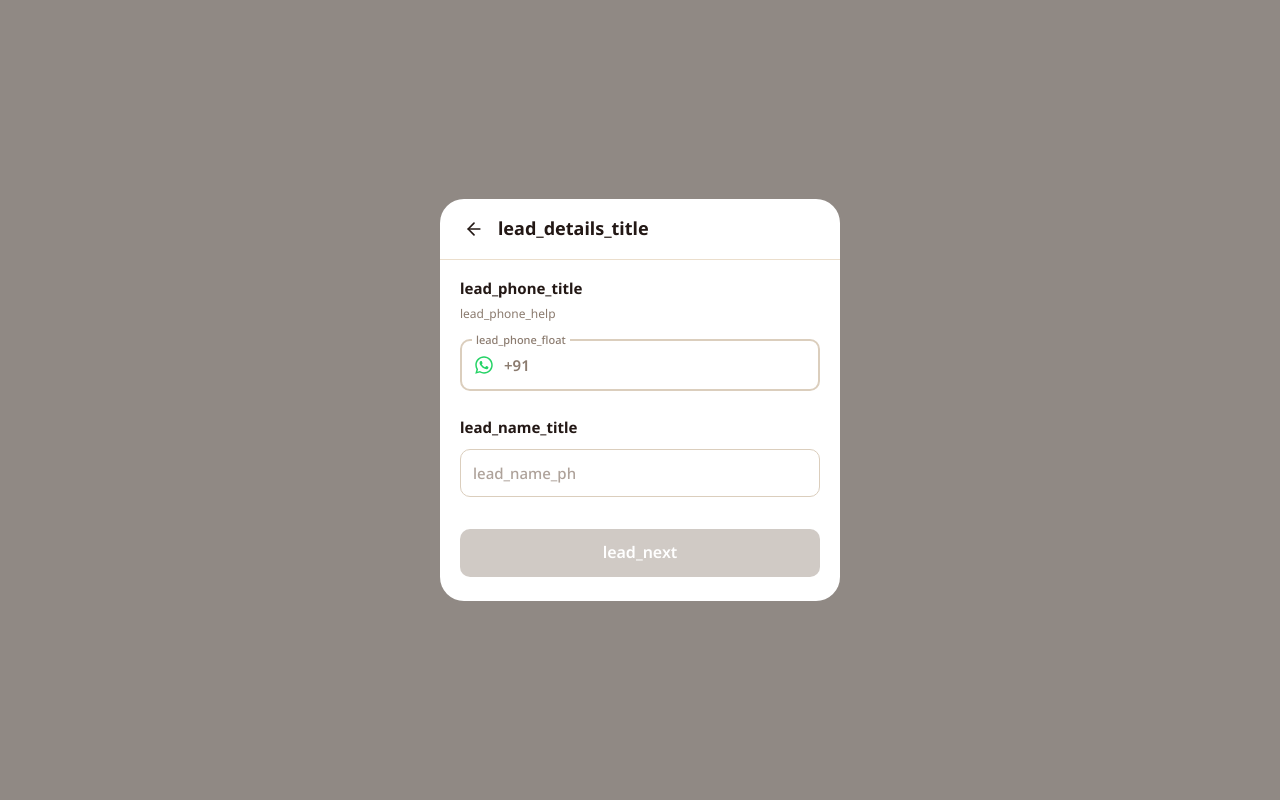
Test: PackageSheet › keeps Next disabled until a 10-digit number and a name are filled
Expected: the button "lead_next" is disabled, [460, 529, 820, 577]
Type "98765" into the field labelled "lead_phone_title" at (673, 365), box [540, 341, 806, 389]
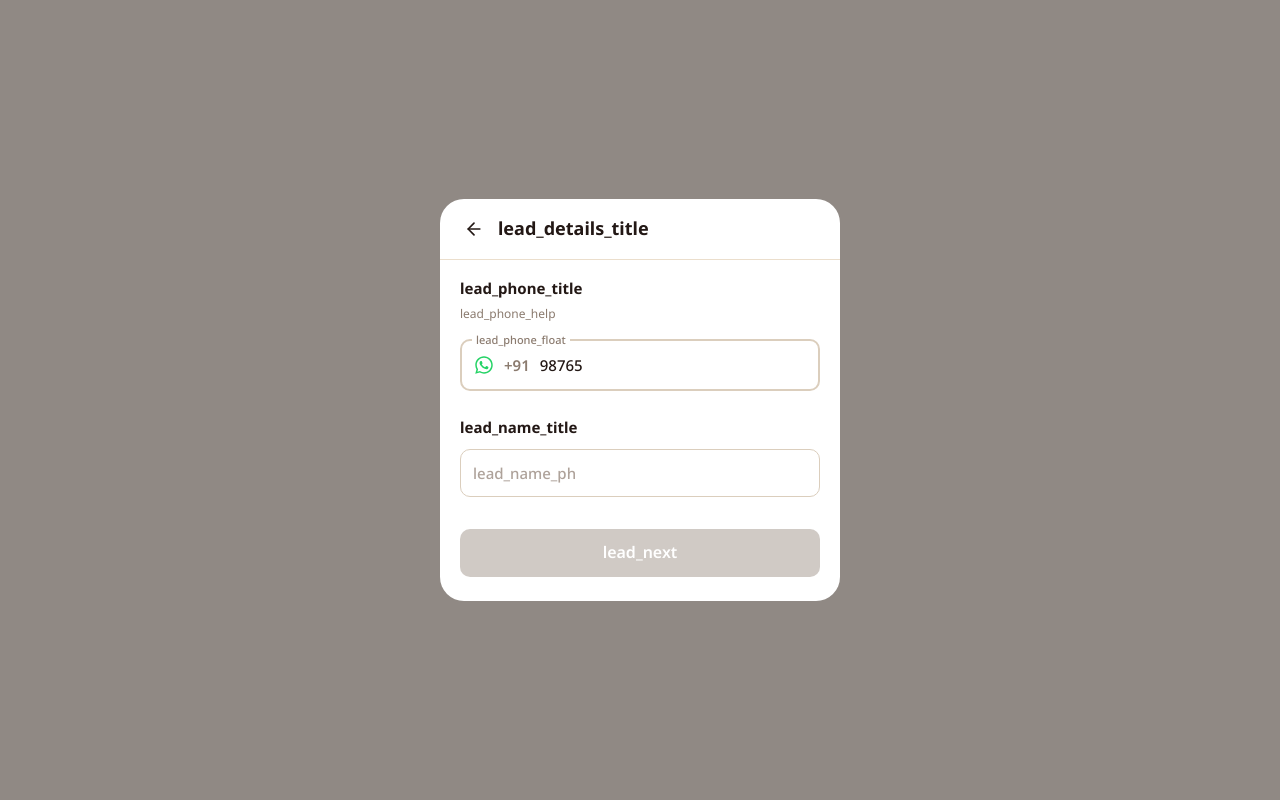
Type "Asha" into the field labelled "lead_name_title" at (640, 473), box [460, 449, 820, 497]
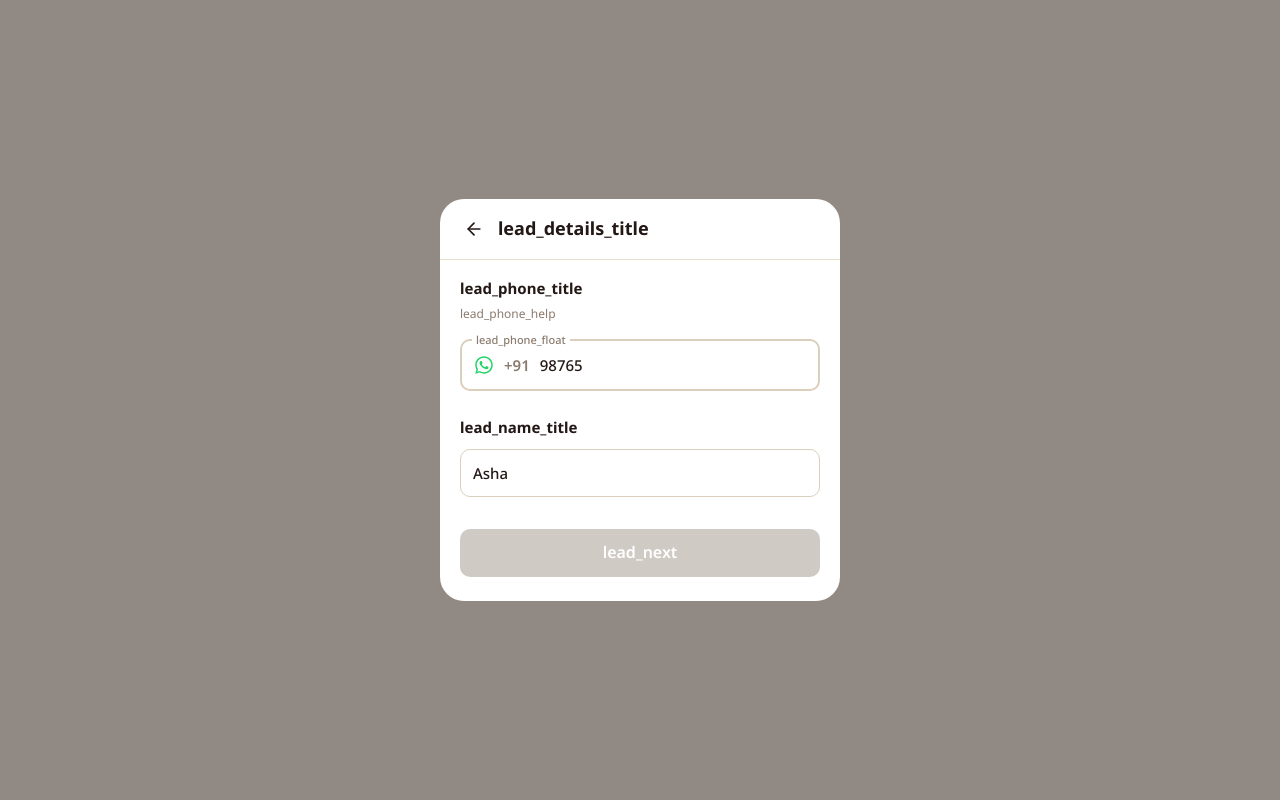
Expected: the button "lead_next" is disabled, [460, 529, 820, 577]
Replace the text in the field labelled "lead_phone_title" with "9876543210" at (673, 365), box [540, 341, 806, 389]
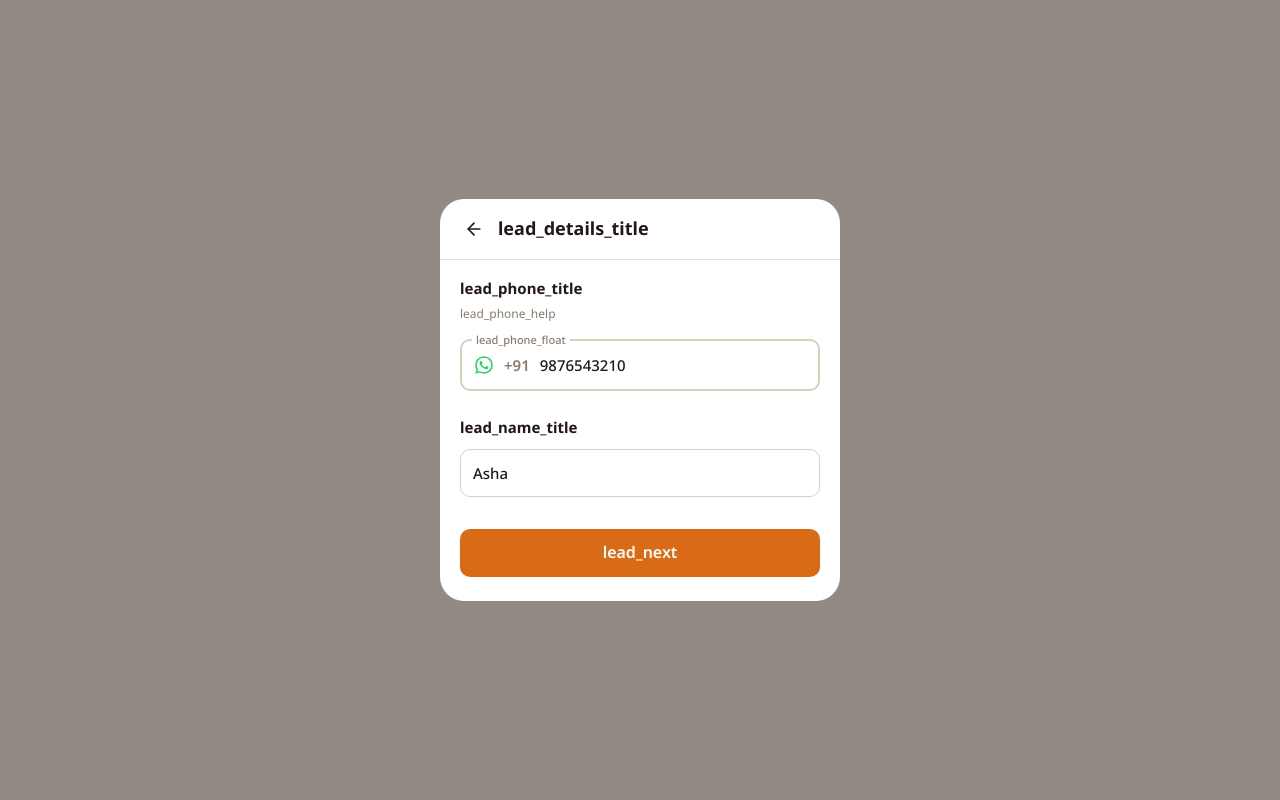
Now the button "lead_next" is enabled, box [460, 529, 820, 577]
